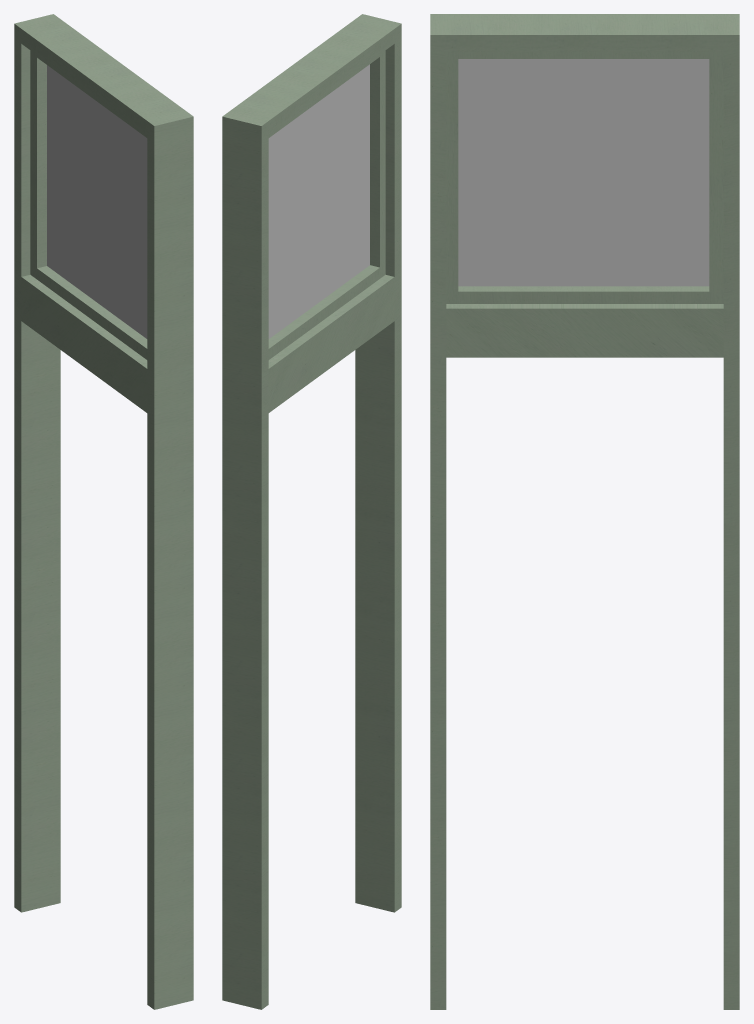
File: SM_WD26_FRAME.fbx
3 renders of one model, left to right at view 1: azimuth 30°, elevation 25°; view 2: azimuth 150°, elevation 25°; view 3: azimuth 270°, elevation 25°, orthographic. The views are drawn at different scales.
Parts seen in each view (by area): view 1: SM_WD26_FRAME; view 2: SM_WD26_FRAME; view 3: SM_WD26_FRAME.
Part boxes in pixels (left/top/right/bottom): SM_WD26_FRAME: left=14, top=14, right=193, bottom=1009; SM_WD26_FRAME: left=222, top=14, right=401, bottom=1009; SM_WD26_FRAME: left=430, top=14, right=739, bottom=1009.
Bounding box in the file's own units: 16.01 × 98.85 × 344.
2 materials, 1 textured.
